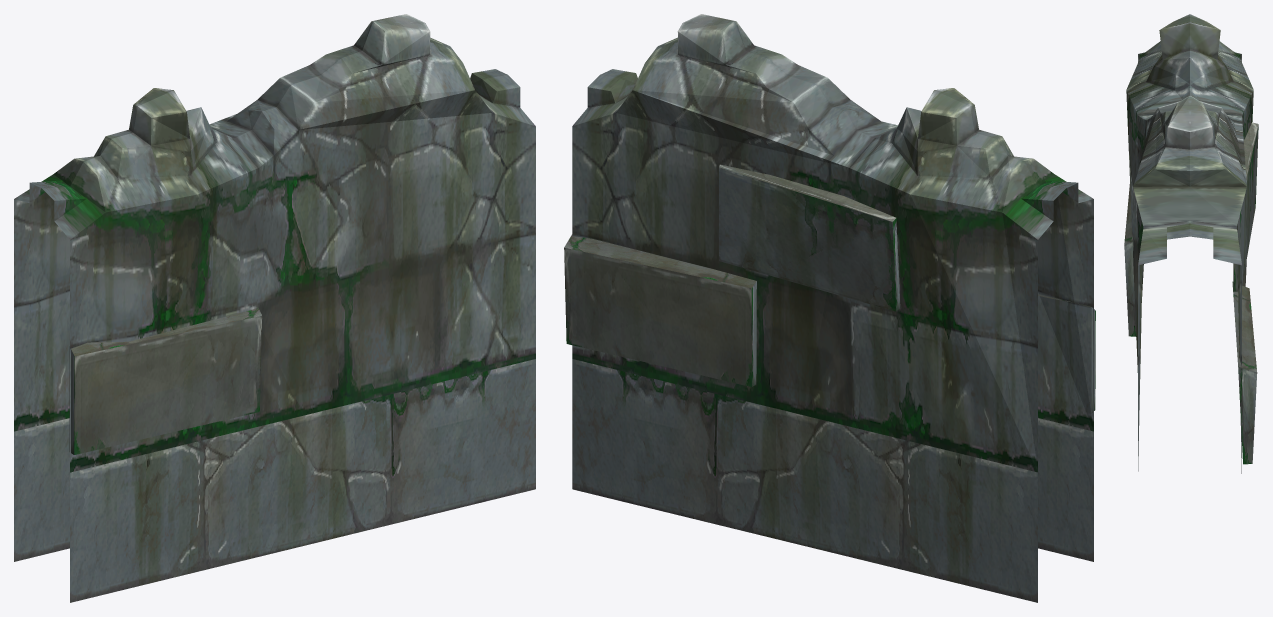
The model's file is stemple_half_straight_06.fbx.
3 views of the same model, side by side, from view 1: azimuth 30°, elevation 25°; view 2: azimuth 150°, elevation 25°; view 3: azimuth 270°, elevation 25° (orthographic). The views are drawn at different scales.
Visible parts, largest first — view 1: obj2.005; view 2: obj2.005; view 3: obj2.005.
Boxes of the visible parts, x1=… form: obj2.005: x1=14, y1=14, x2=535, y2=602; obj2.005: x1=564, y1=14, x2=1095, y2=602; obj2.005: x1=1124, y1=14, x2=1258, y2=473.
Size of the model in its own units: 4.01 by 3.94 by 1.07.
